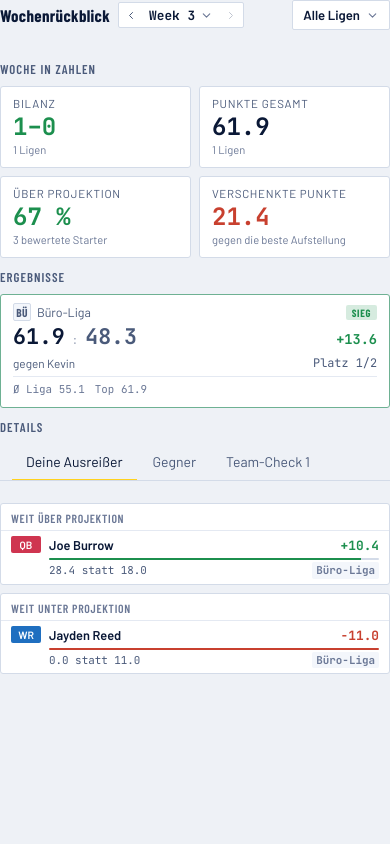
Scenario: WeeklyPage › listet Ausreisser, Verletzungen und den Bankverlust
This screenshot has width=390, height=844.
Expected: the text "+10.4" is shown, [341,536,379,556]
Expected: the text "−11.0" is shown, [341,626,379,646]
Click the tab "Team-Check 1".
click(268, 463)  # box [212,444,324,481]
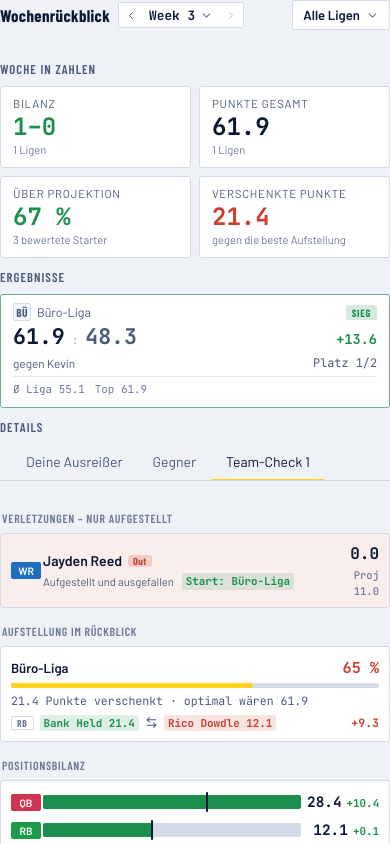
Expected: the text "Out" is shown, [128,555,152,567]
Expected: the text "Aufgestellt und ausgefallen" is shown, [43,573,174,590]
Expected: the text "Bank Held 21.4" is shown, [40,714,139,731]
